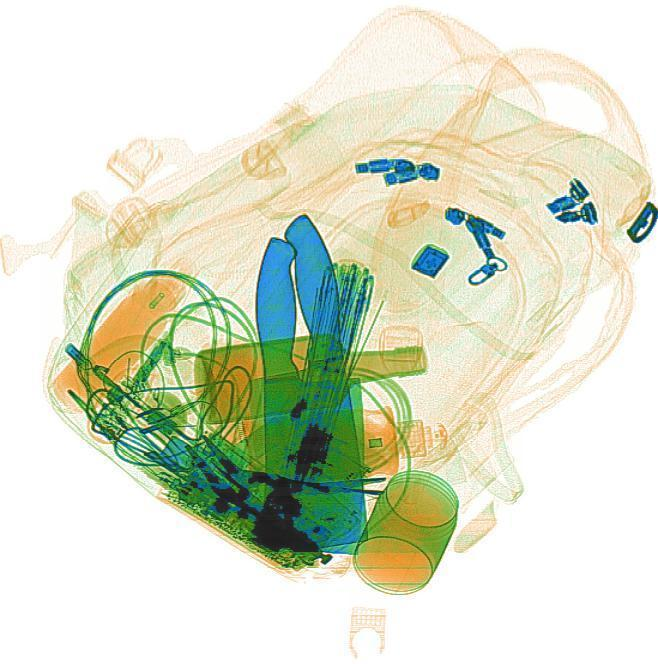Knife: (221, 208, 369, 552), (252, 237, 368, 552)
